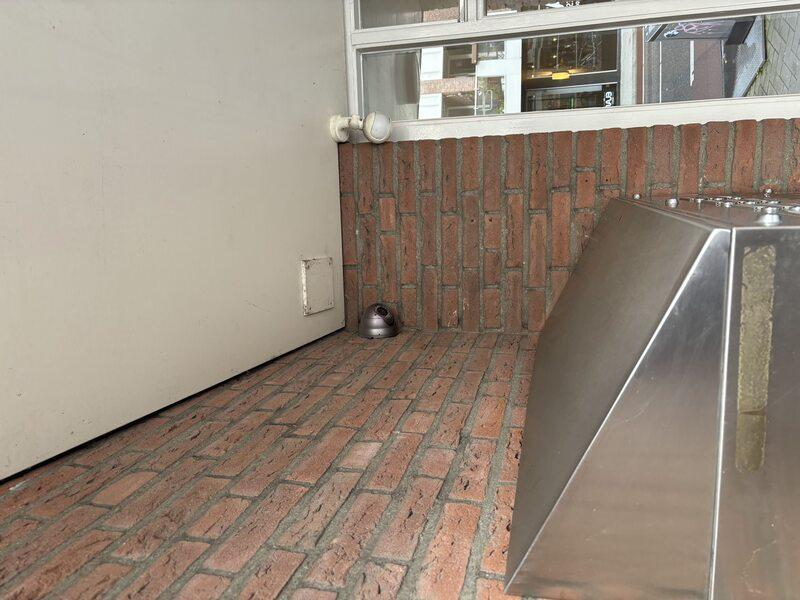turret: (256, 355, 302, 403)
